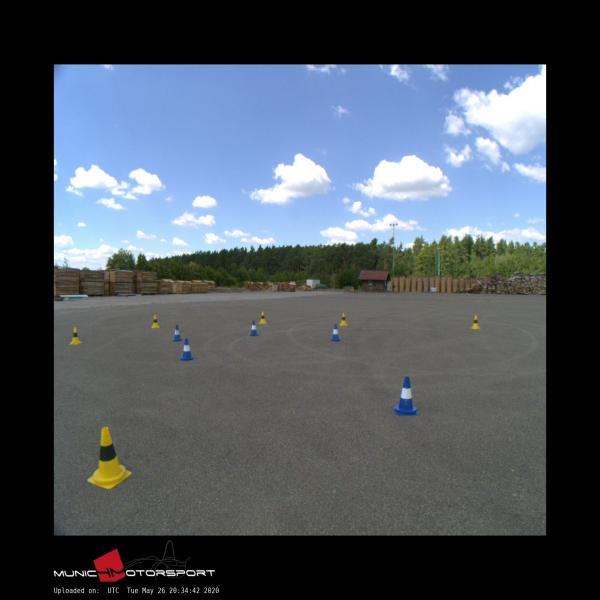blue_cone: (394, 376, 418, 415), (181, 339, 193, 360), (330, 325, 340, 340), (249, 320, 259, 335), (172, 325, 181, 340)
yellow_cone: (88, 427, 131, 489), (70, 328, 82, 343), (471, 314, 480, 329), (152, 314, 159, 328), (259, 310, 266, 324), (340, 314, 348, 326)
